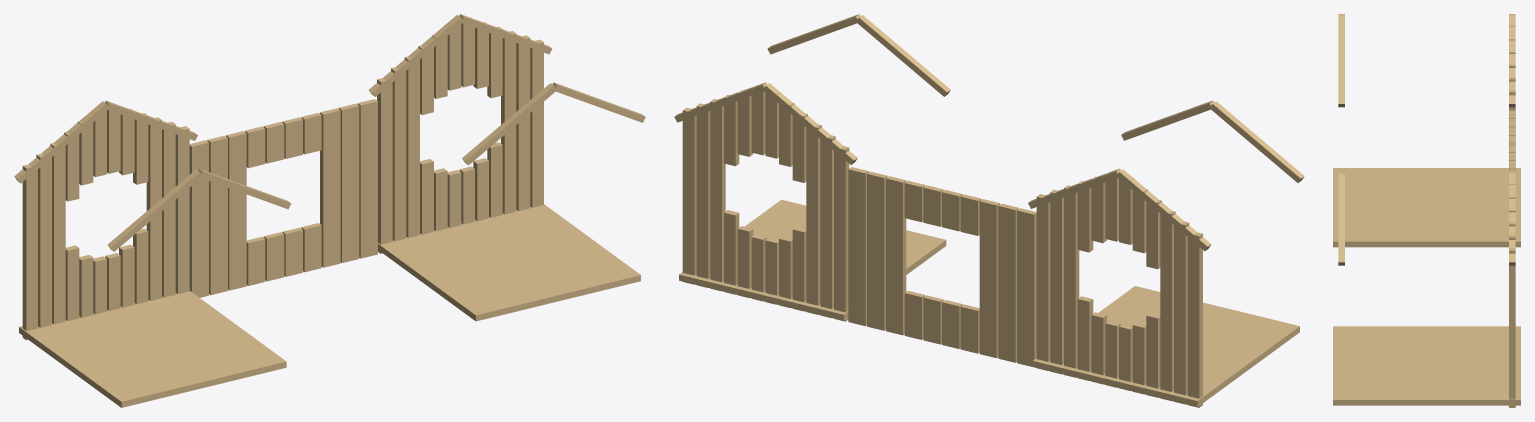
The picture shows the model from 3 angles, left to right: view 1: azimuth 30°, elevation 25°; view 2: azimuth 150°, elevation 25°; view 3: azimuth 270°, elevation 25°; orthographic projection. The views are drawn at different scales.
Visible parts, largest first — view 1: SW-Y309; view 2: SW-Y309; view 3: SW-Y309.
Part boxes in pixels (bbox=[...]): SW-Y309: bbox=[14, 14, 645, 407]; SW-Y309: bbox=[674, 14, 1304, 407]; SW-Y309: bbox=[1333, 14, 1520, 407].
Size of the model in its own units: 3.61 by 1.4 by 1.2.
